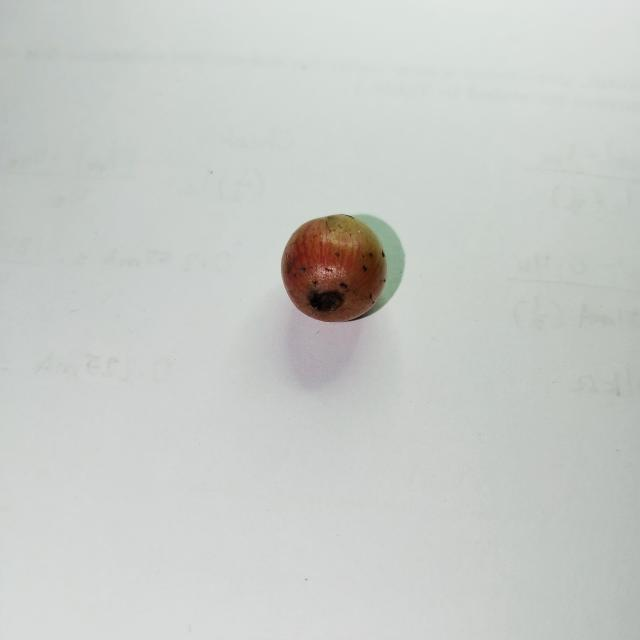Infectado: (281, 215, 387, 322)
